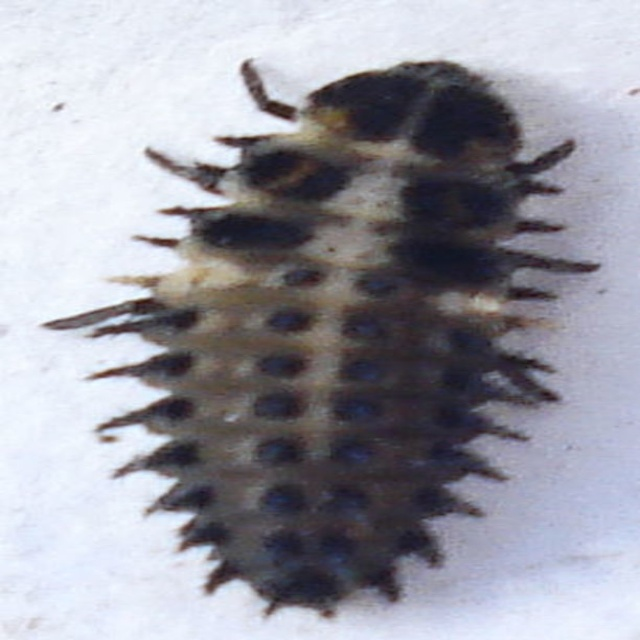Caterpillar: (35, 52, 593, 622)
